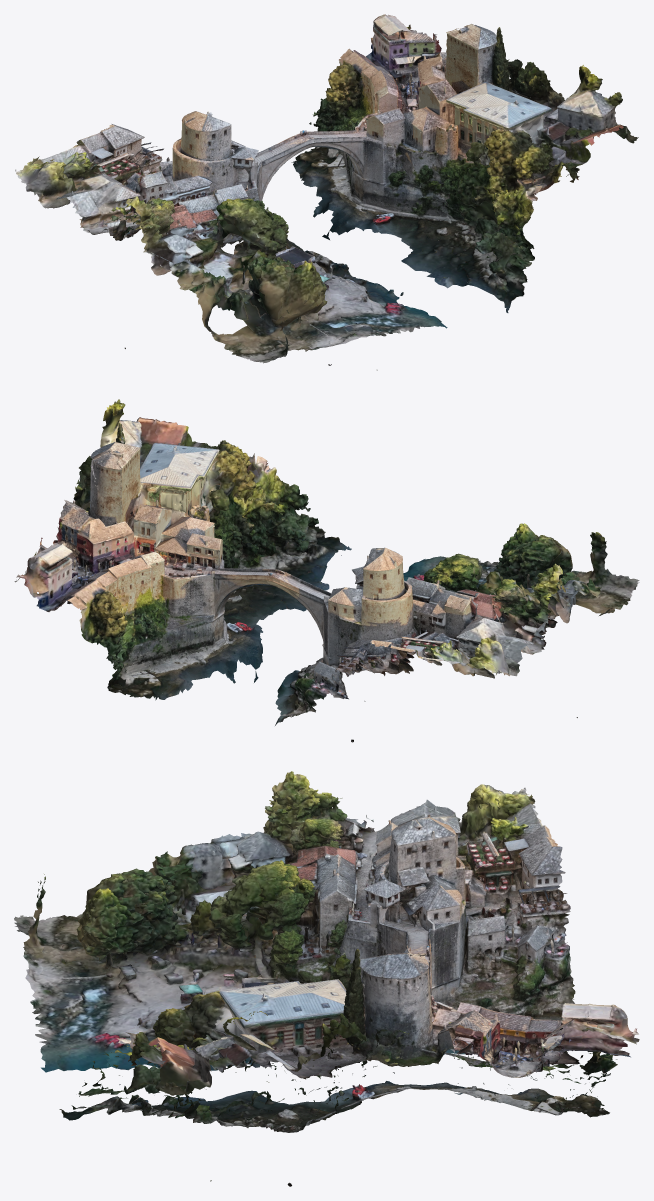
The model's file is stari-most.glb.
3 renders of one model, top to bottom at view 1: azimuth 30°, elevation 25°; view 2: azimuth 150°, elevation 25°; view 3: azimuth 270°, elevation 25°, orthographic. The views are drawn at different scales.
Visible parts, largest first — view 1: most; view 2: most; view 3: most.
Part boxes in pixels (x1,y1,x2,y2): most: (15,14,638,370); most: (14,399,639,742); most: (14,771,639,1186).
Size of the model in its own units: 116 by 61.57 by 95.59.
2 materials, 2 textured.
